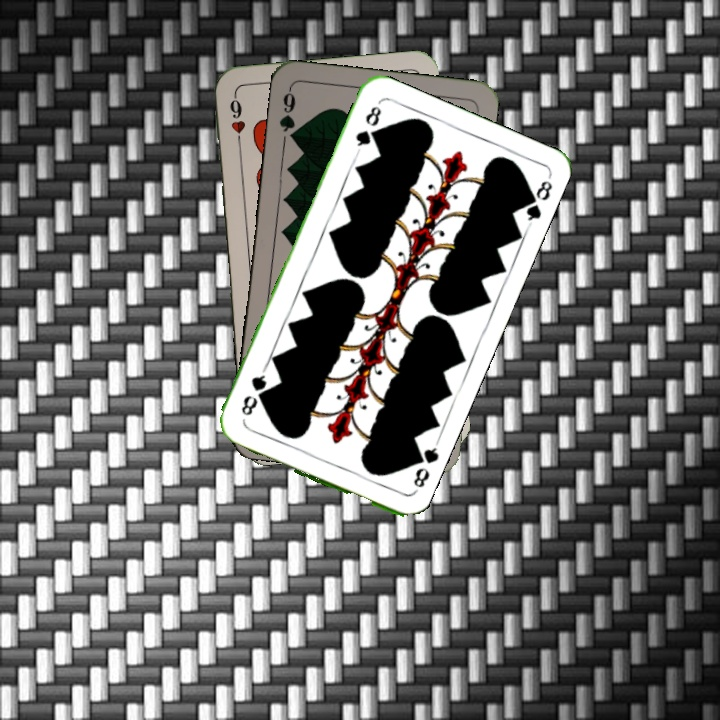G8: (407, 440, 441, 496), (351, 102, 384, 155)
G9: (275, 85, 300, 145)
H9: (226, 91, 248, 150)
